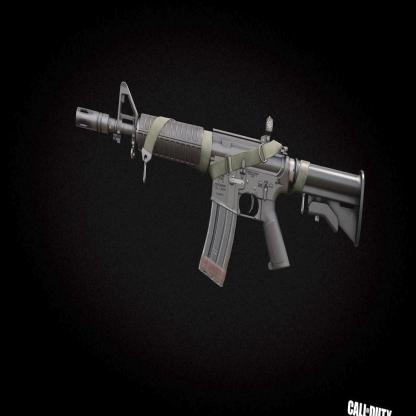rifle: (63, 73, 368, 321)
